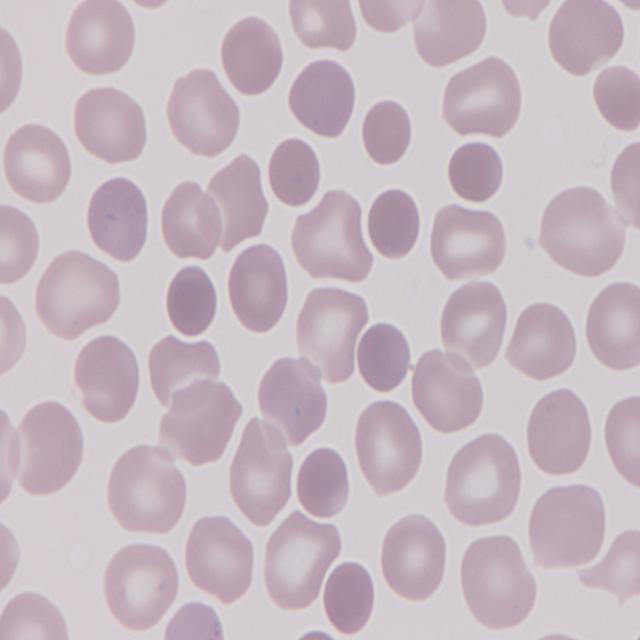RBC: (442, 432, 526, 534), (36, 249, 124, 343), (536, 184, 622, 278), (100, 535, 180, 635), (526, 480, 612, 571), (459, 532, 538, 630), (106, 448, 190, 540), (222, 426, 296, 530), (410, 343, 490, 437), (166, 64, 245, 159), (262, 514, 338, 612), (180, 512, 260, 603), (293, 196, 372, 288), (442, 54, 526, 140), (522, 382, 595, 480), (160, 375, 241, 463), (353, 400, 423, 501), (377, 508, 450, 604), (15, 400, 88, 496), (438, 276, 513, 366), (286, 51, 361, 141), (428, 202, 510, 284), (74, 84, 152, 168), (506, 297, 582, 383), (73, 334, 144, 426), (254, 354, 326, 444), (223, 241, 291, 335), (84, 172, 152, 264), (218, 13, 288, 102), (0, 123, 75, 206), (65, 0, 142, 79), (546, 0, 626, 76), (580, 282, 640, 374), (157, 178, 223, 260), (413, 0, 491, 69), (286, 0, 364, 56), (0, 194, 42, 290), (601, 386, 640, 488), (588, 60, 640, 132), (2, 585, 71, 638), (609, 132, 640, 238), (0, 282, 27, 386), (1, 18, 29, 116), (162, 599, 226, 640), (356, 0, 426, 36)
Spherocyte: (160, 262, 220, 342), (296, 439, 356, 518), (364, 188, 426, 264), (322, 558, 380, 638), (266, 135, 324, 214), (354, 319, 412, 394), (446, 134, 506, 206), (359, 97, 412, 165)
